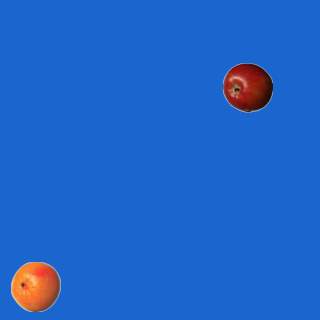Apple Braeburn: (222, 62, 272, 112)
Grapefruit Pink: (10, 261, 60, 311)
